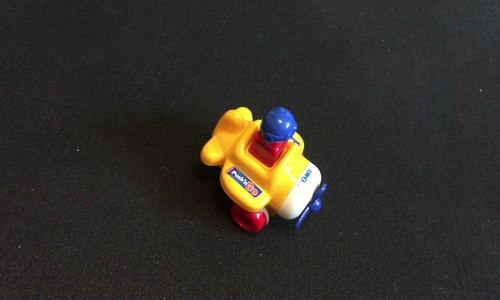toy: (199, 95, 327, 235)
